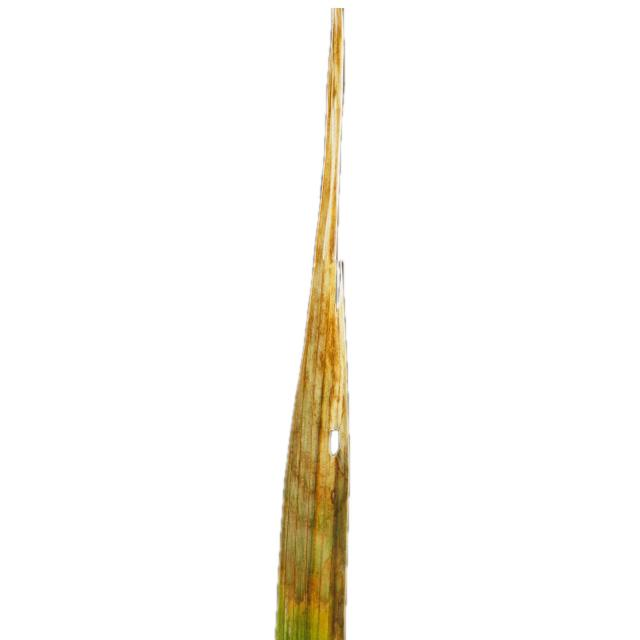Leaf scald: (216, 0, 462, 640)
